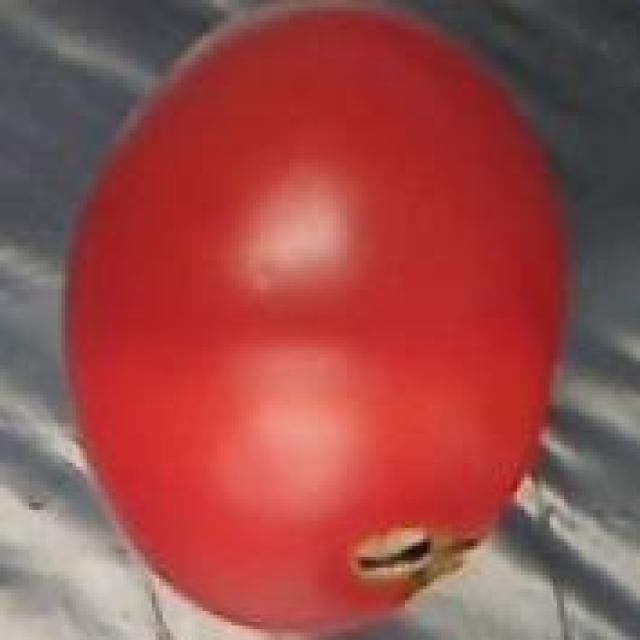overripe tomato: (54, 0, 568, 640)
